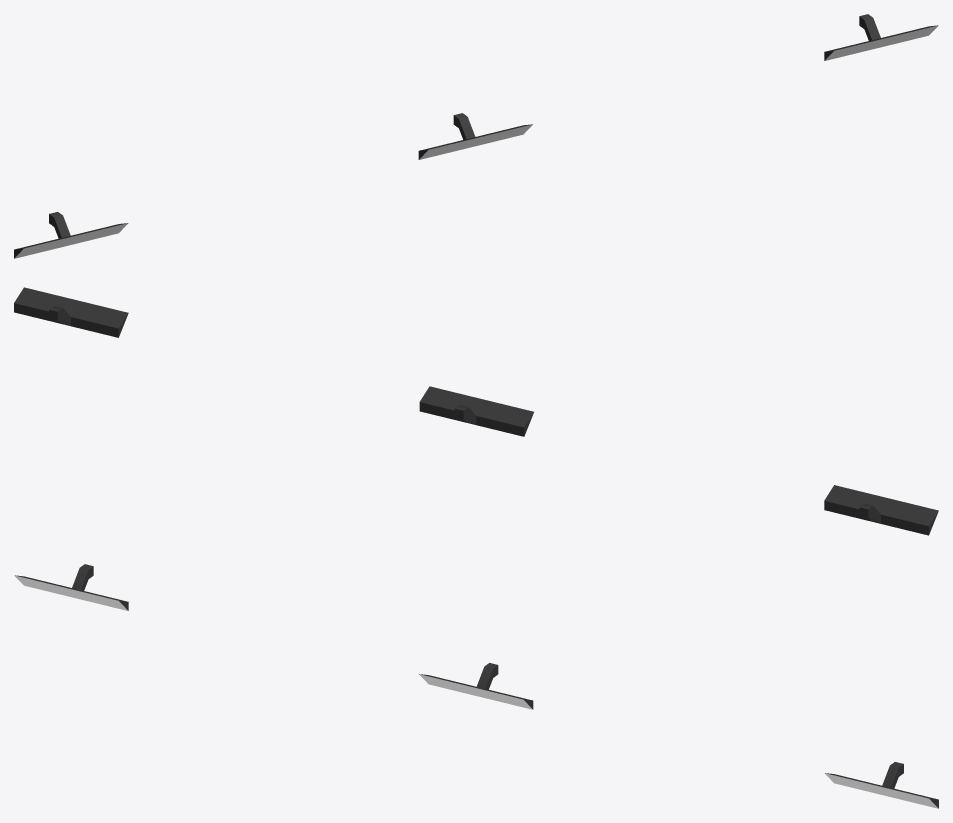
File: Storage_Lights.fbx
3 renders of one model, top to bottom at view 1: azimuth 30°, elevation 25°; view 2: azimuth 150°, elevation 25°; view 3: azimuth 330°, elevation 25°, orthographic.
Parts seen in each view (by area): view 1: Storage_Lights; view 2: Storage_Lights; view 3: Storage_Lights.
Part boxes in pixels (x1,y1,x2,y2): Storage_Lights: [14, 14, 938, 258]; Storage_Lights: [14, 287, 938, 535]; Storage_Lights: [14, 564, 938, 808].
Bounding box in the file's own units: 15.24 × 0.3803 × 0.661.
